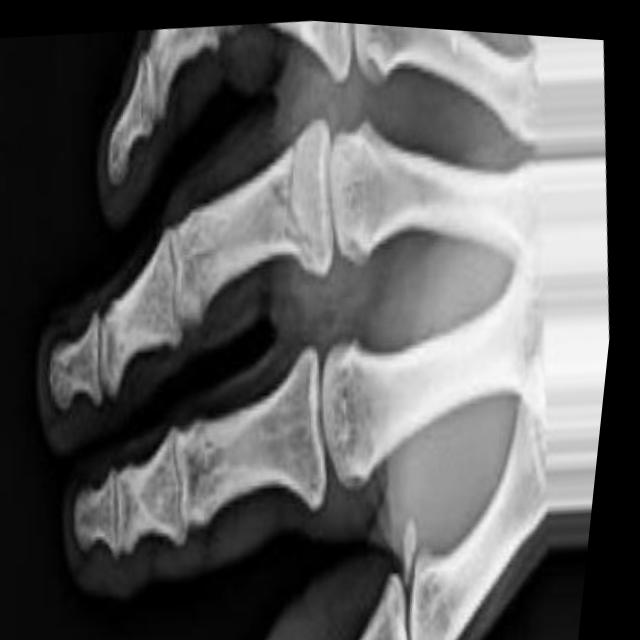fracture: (250, 131, 332, 268)
